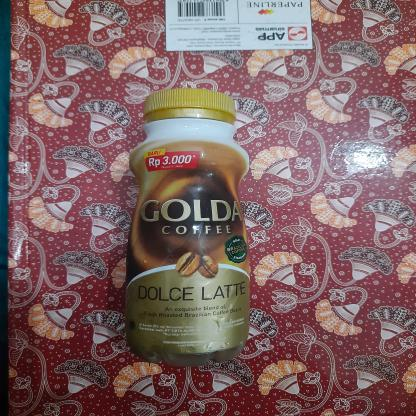bottle: (119, 83, 255, 370)
